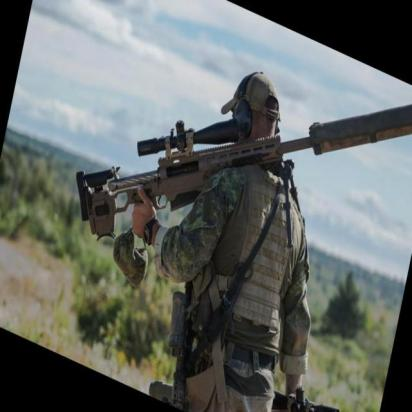Gun: (75, 98, 411, 245)
